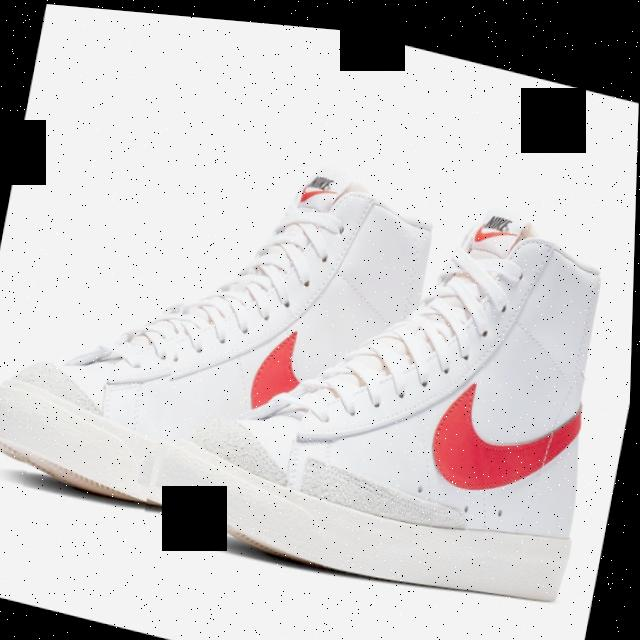shoe: (142, 121, 637, 634), (0, 93, 449, 572)
